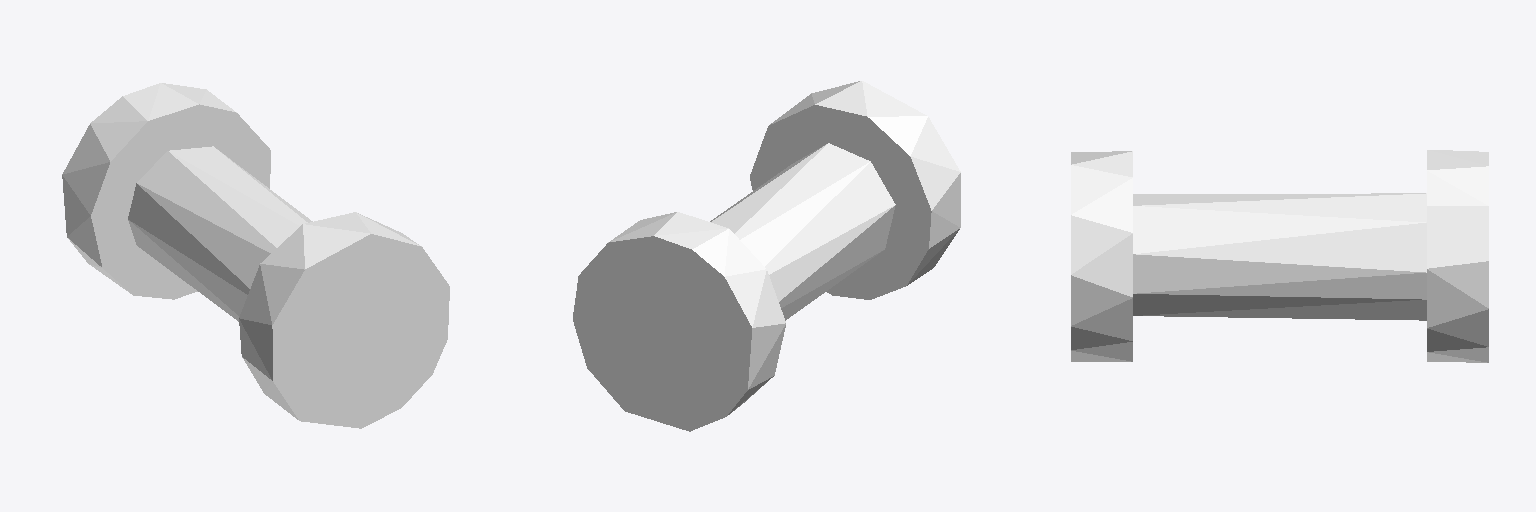
File: Rund_Dieter.obj
The picture shows the model from 3 angles: view 1: azimuth 30°, elevation 25°; view 2: azimuth 150°, elevation 25°; view 3: azimuth 270°, elevation 25°; orthographic projection.
Visible parts, largest first — view 1: Pneumatikspanner.006; view 2: Pneumatikspanner.006; view 3: Pneumatikspanner.006.
Part boxes in pixels (left/top/right/bottom): Pneumatikspanner.006: left=62, top=83, right=449, bottom=428; Pneumatikspanner.006: left=573, top=81, right=960, bottom=431; Pneumatikspanner.006: left=1071, top=150, right=1488, bottom=362.
Bounding box in the file's own units: 0.0101 × 0.0101 × 0.02.